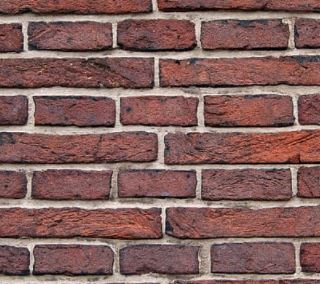brick: (1, 205, 163, 239), (1, 56, 156, 90), (166, 206, 320, 240), (1, 131, 158, 164), (163, 131, 320, 163), (158, 56, 320, 87), (201, 166, 292, 202), (208, 240, 298, 274), (200, 16, 289, 50), (203, 93, 294, 125), (117, 245, 205, 278), (33, 243, 115, 277), (30, 168, 115, 200), (115, 167, 198, 199), (117, 19, 197, 52), (27, 21, 112, 50), (118, 95, 200, 125), (33, 95, 117, 124), (1, 1, 153, 14), (158, 1, 320, 13), (1, 93, 29, 127), (1, 245, 30, 275), (294, 17, 320, 49), (296, 167, 320, 199), (1, 170, 27, 198), (1, 22, 23, 52), (298, 94, 320, 124), (299, 242, 320, 272)
